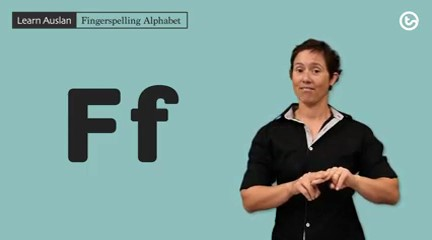F: (297, 165, 359, 202)
